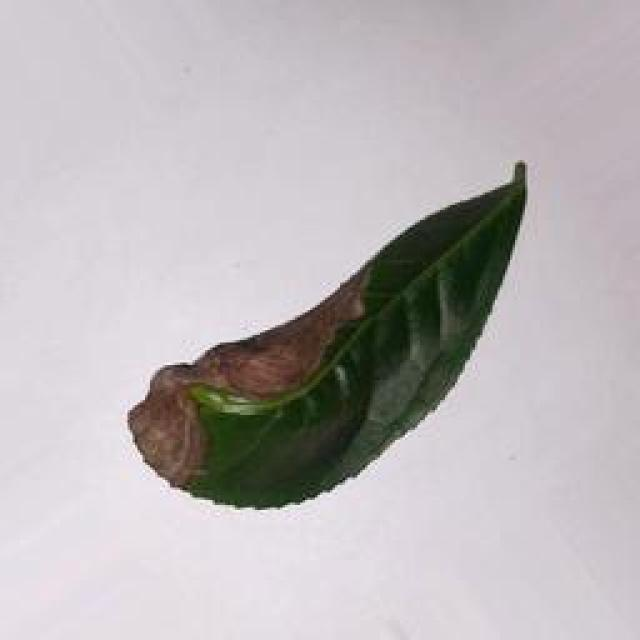Brown Blight: (118, 154, 516, 514)
